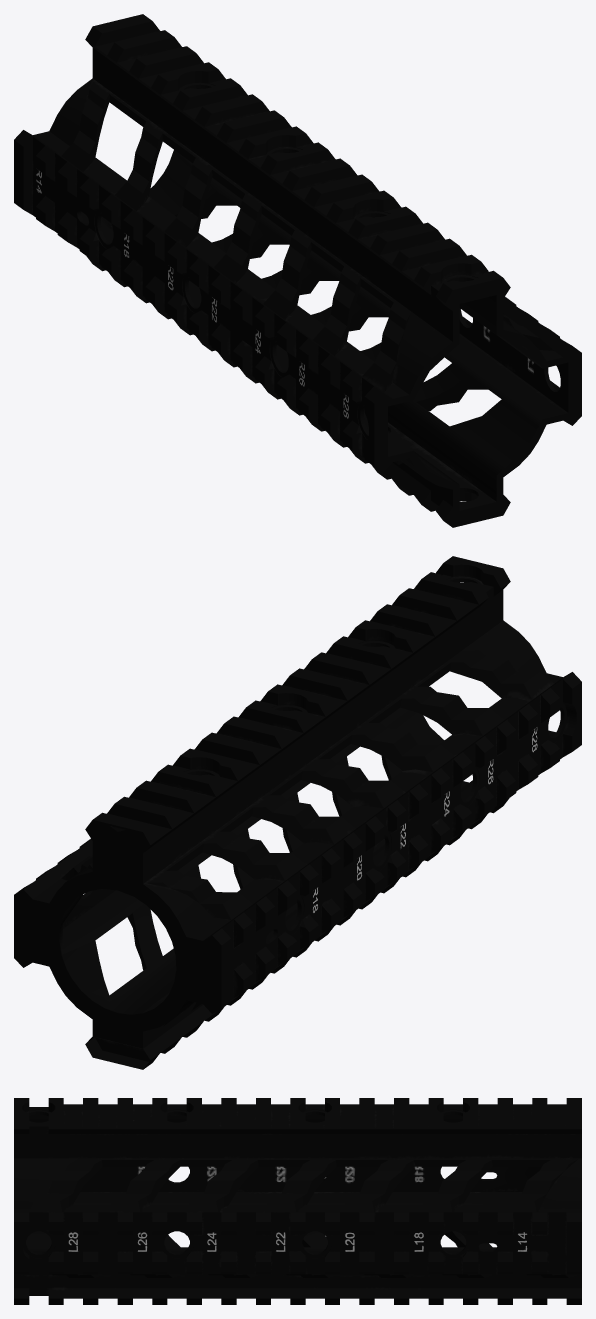
The model's file is M4_OuterBarrel.fbx.
The picture shows the model from 3 angles, top to bottom: view 1: azimuth 30°, elevation 25°; view 2: azimuth 150°, elevation 25°; view 3: azimuth 270°, elevation 25°; orthographic projection. The views are drawn at different scales.
Visible parts, largest first — view 1: BaseOuterBarrel; view 2: BaseOuterBarrel; view 3: BaseOuterBarrel.
Boxes of the visible parts, left/top/right/bottom form: BaseOuterBarrel: left=14, top=14, right=581, bottom=527; BaseOuterBarrel: left=14, top=556, right=581, bottom=1069; BaseOuterBarrel: left=14, top=1098, right=581, bottom=1304.
Bounding box in the file's own units: 5.3 × 5.8 × 15.92.
Materials: 1 (1 with a texture image).
